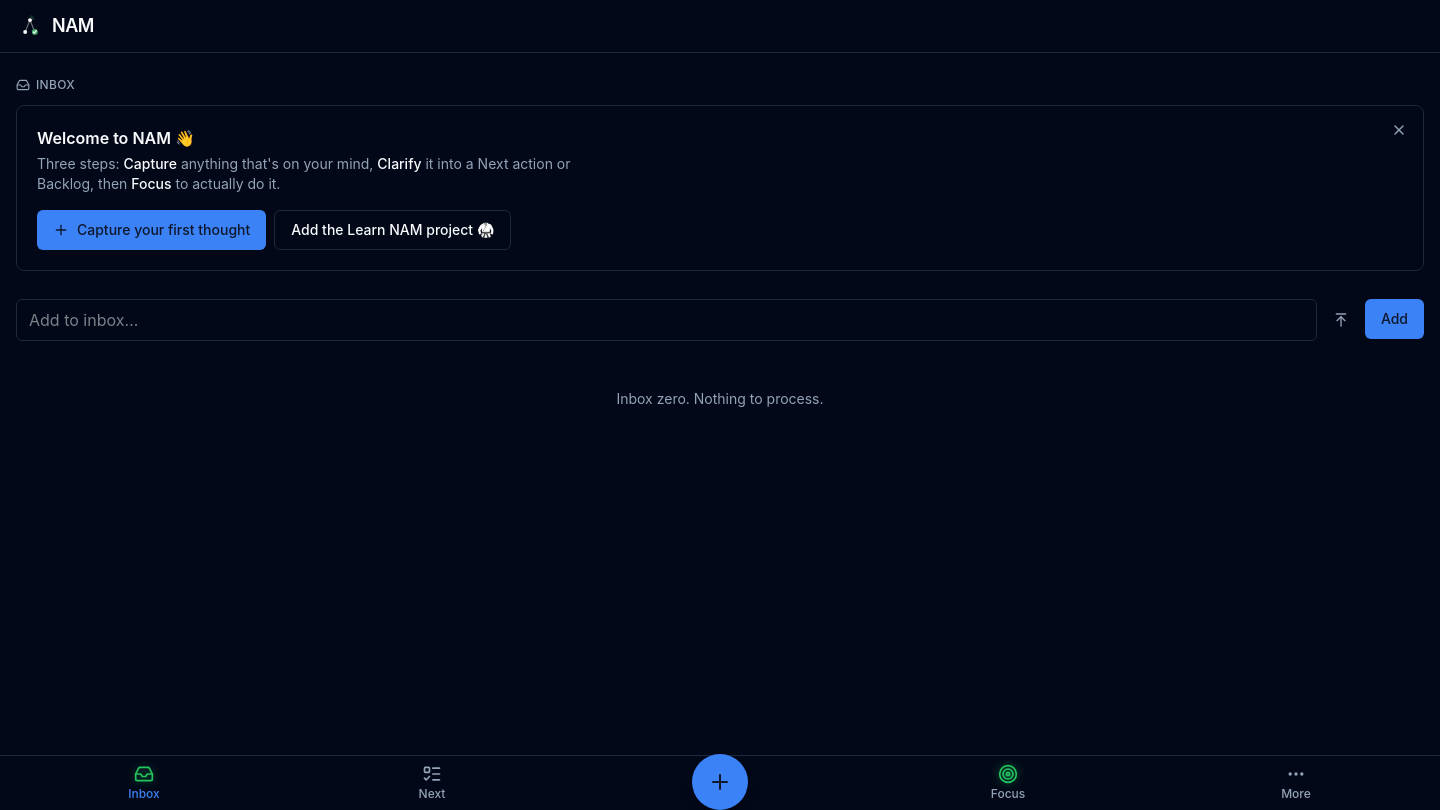
Scenario: adaptive shell › phone: the More sheet carries the version + build stamp (#790)
Click the button "More".
click(1296, 783)  # box [1152,756,1439,809]
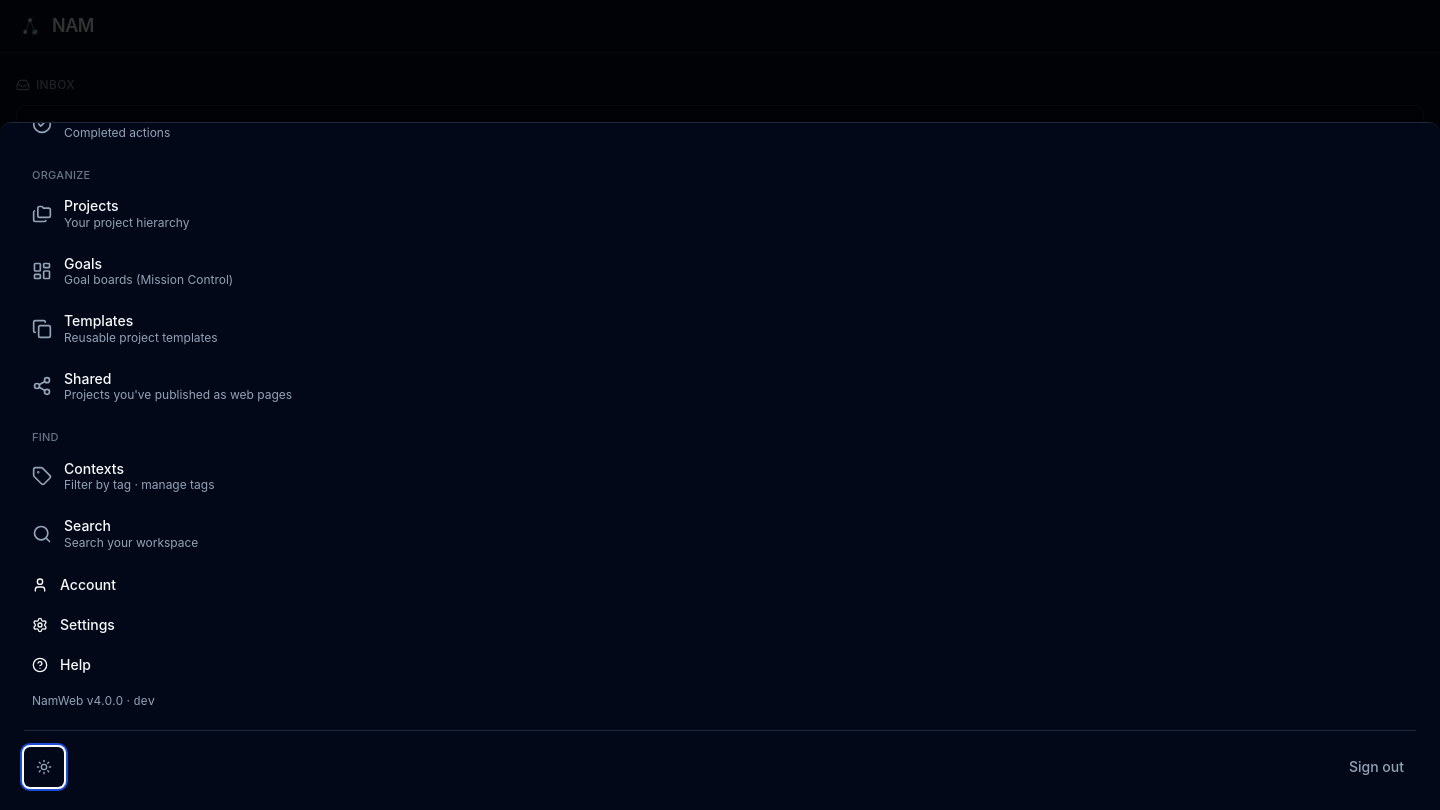
Expected: the text "v4.0.0" is shown, [87,692,123,708]
